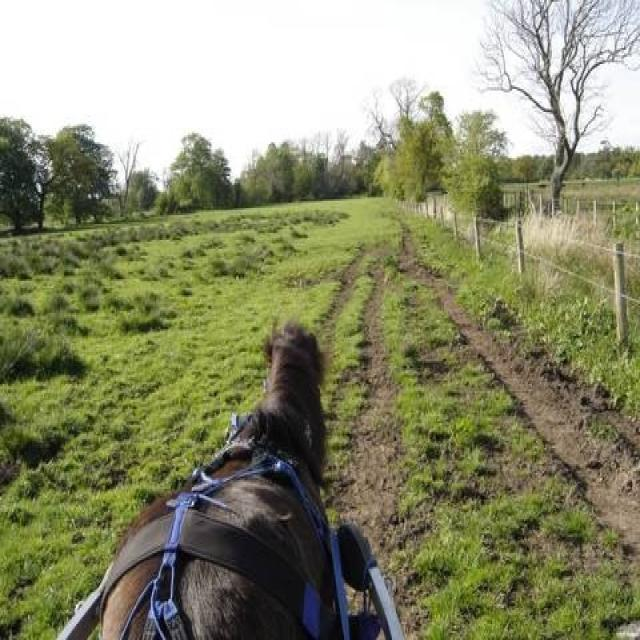horse: (99, 322, 345, 638)
